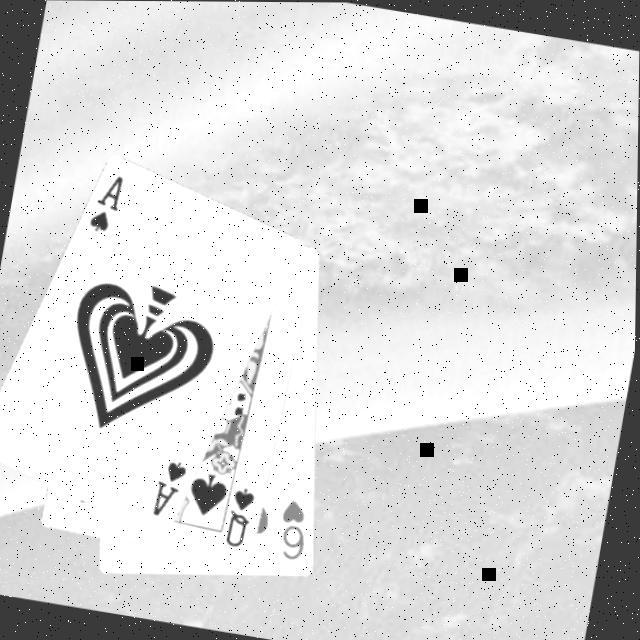6H: (274, 497, 320, 568)
AS: (151, 458, 195, 526), (86, 172, 130, 240)
QS: (224, 484, 263, 554)
